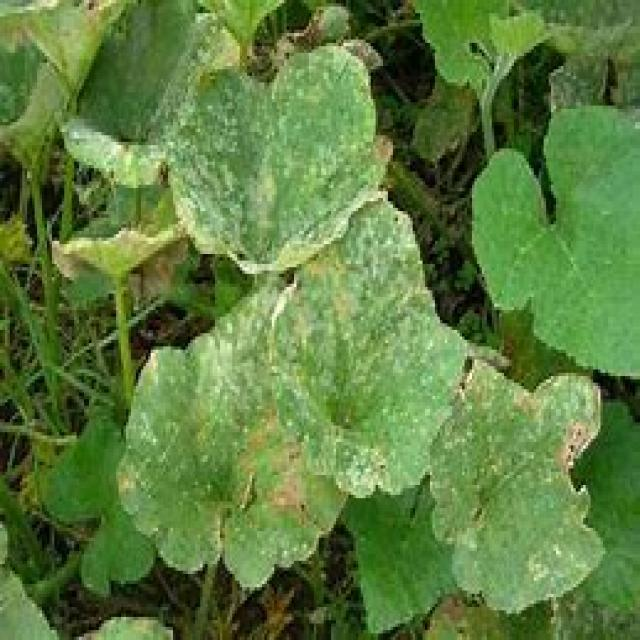Leaf_Mold: (56, 0, 605, 578)
